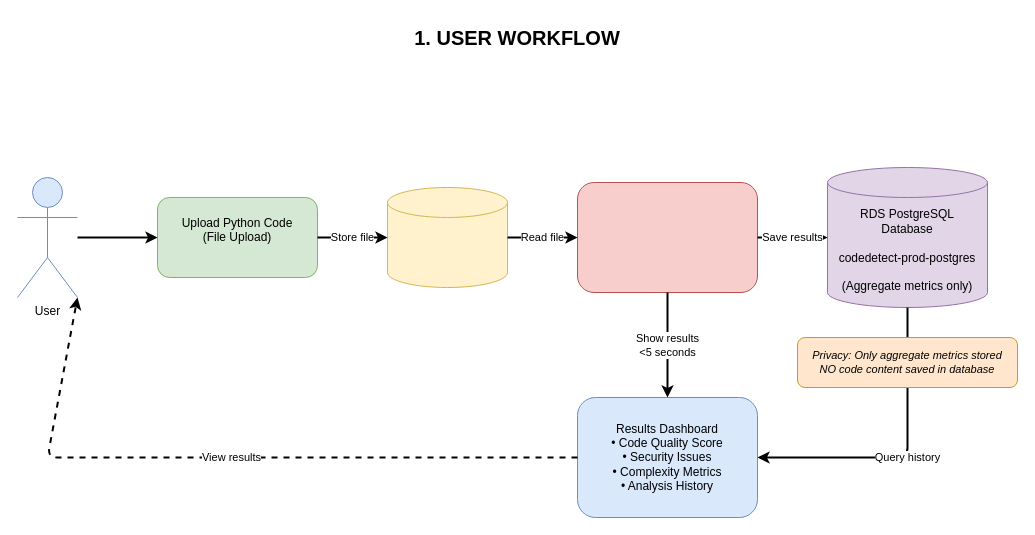
Image size: 1035x535. Some labels were removed from this diagram. The shapes that lost their labels are listed below. From the top down, each one's box as (x1, y1, x2, y2) in pixels, then its label:
(386, 186, 508, 288): AWS S3 Bucket (Temporary Storage)
(576, 182, 758, 292): Analysis Engine • Pylint (Quality) • Bandit (Security) • Radon (Complexity)
